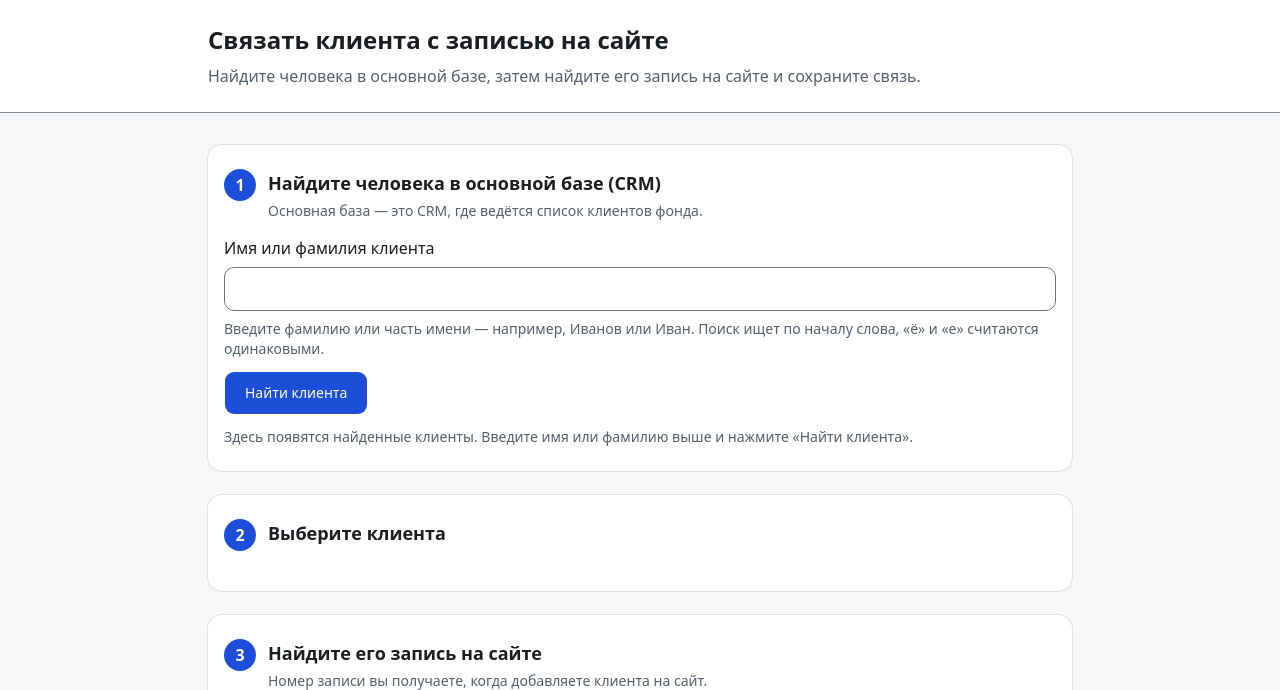
Test: поиск клиента в основной базе › объясняет, что список клиентов получить не удалось
The image size is (1280, 690).
Type "Иванов" into the field labelled "Имя или фамилия клиента".
click(640, 289); type("Иванов")  # box [224,267,1056,311]
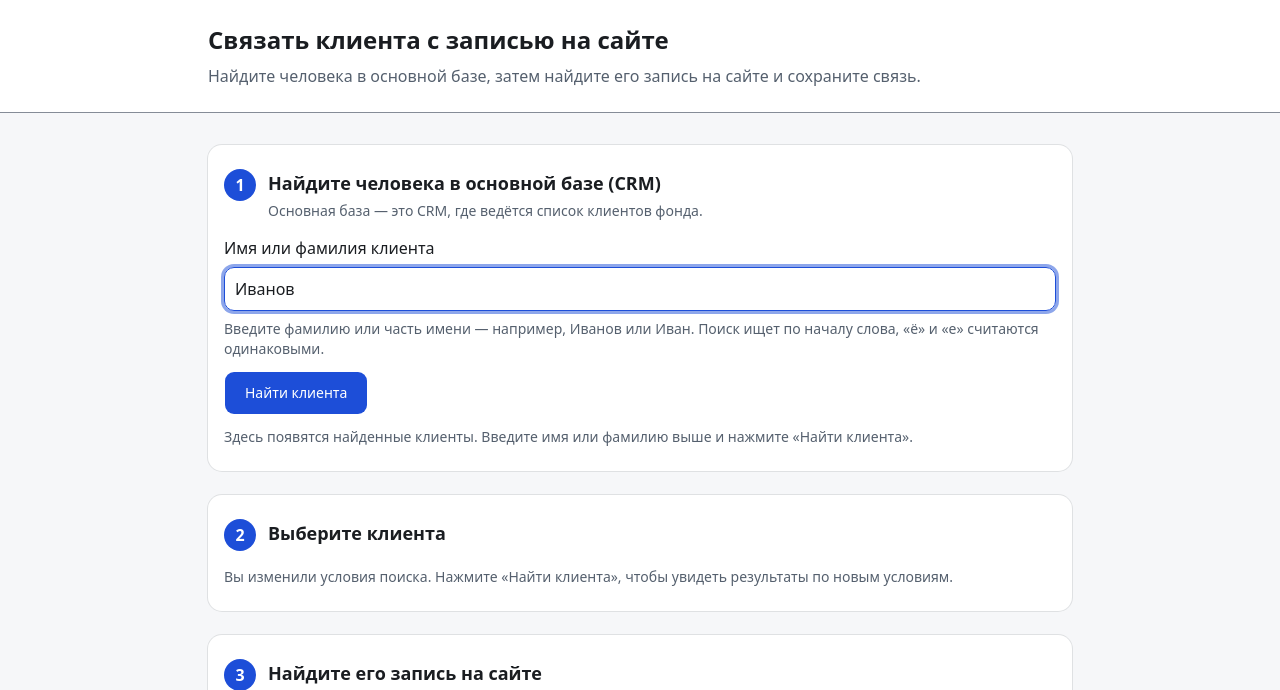
Click the button "Найти клиента".
click(296, 393)  # box [224,371,368,415]
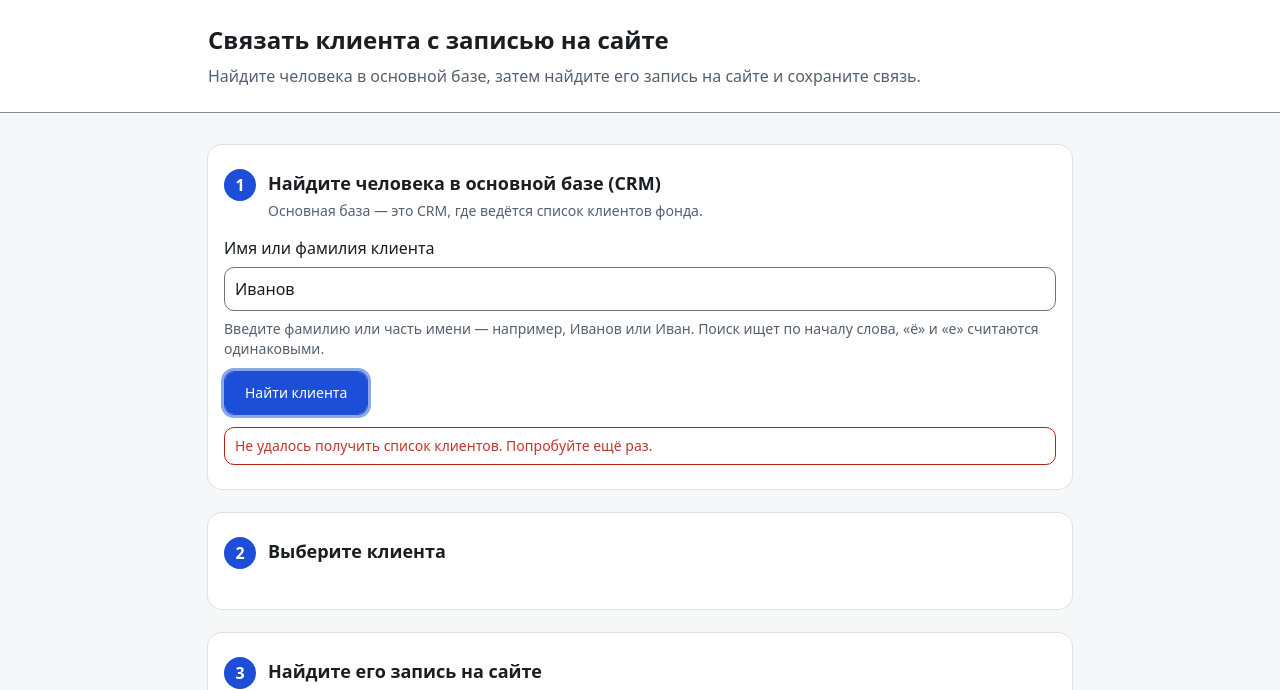
Now the text "Не удалось получить список клиентов. Попробуйте ещё раз." is shown, box [235,436,652,455]
